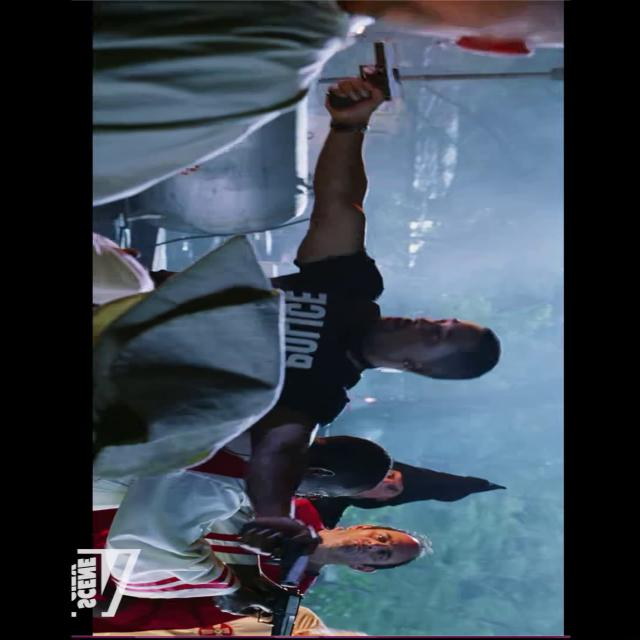weapons: (230, 519, 330, 591), (326, 36, 404, 118)
